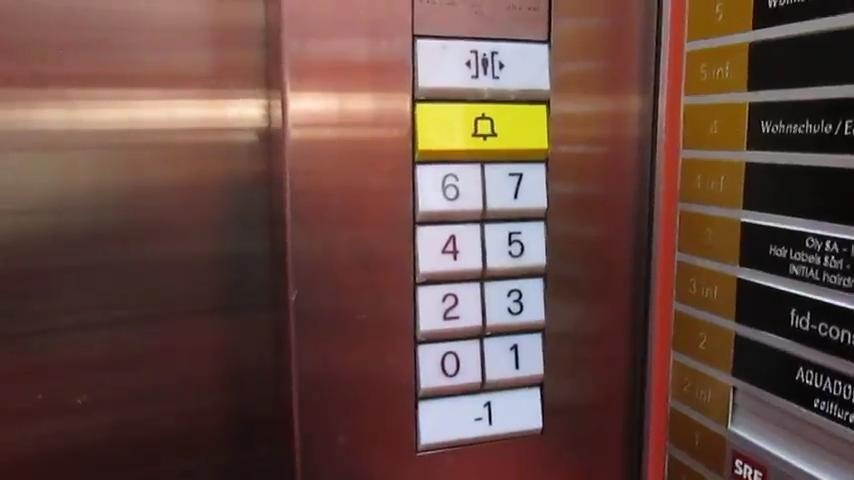-1: (413, 383, 545, 454)
0: (414, 337, 486, 396)
1: (478, 329, 550, 388)
2: (411, 279, 486, 342)
3: (480, 274, 549, 333)
4: (411, 218, 485, 282)
5: (482, 216, 551, 277)
6: (410, 155, 485, 220)
7: (479, 154, 554, 219)
alarm: (407, 94, 549, 161)
open: (407, 29, 557, 101)
